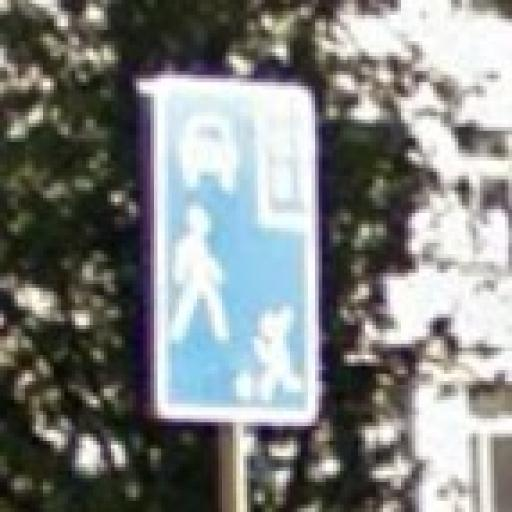traffic_sign: (155, 76, 320, 427)
